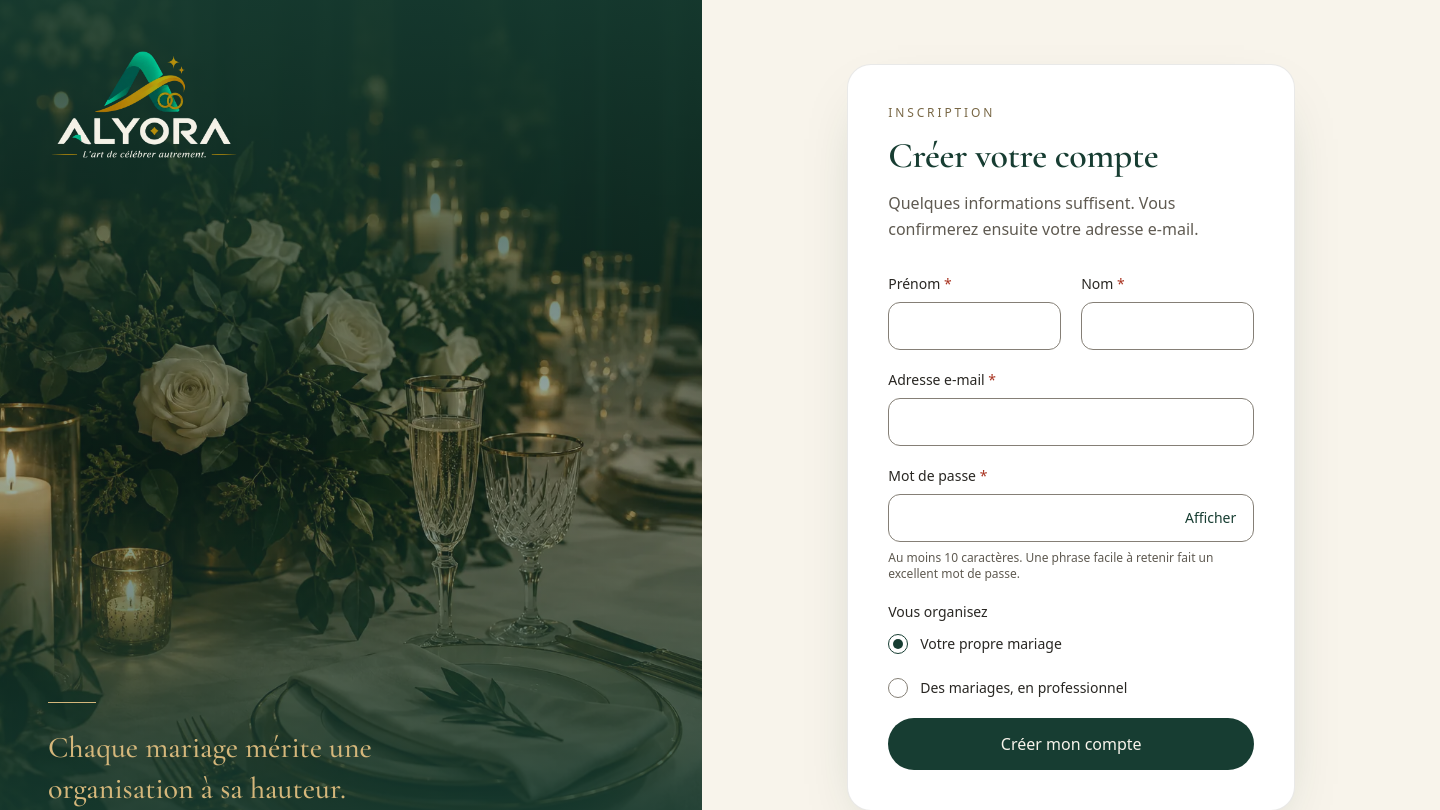
registration page › keeps the key for a retry after a network failure, and changes it after an answer
Later steps or results of the test are not shown.
Type "Awa" into the field labelled "Prénom *". click: x=975, y=326
box: [888,302,1061,350]
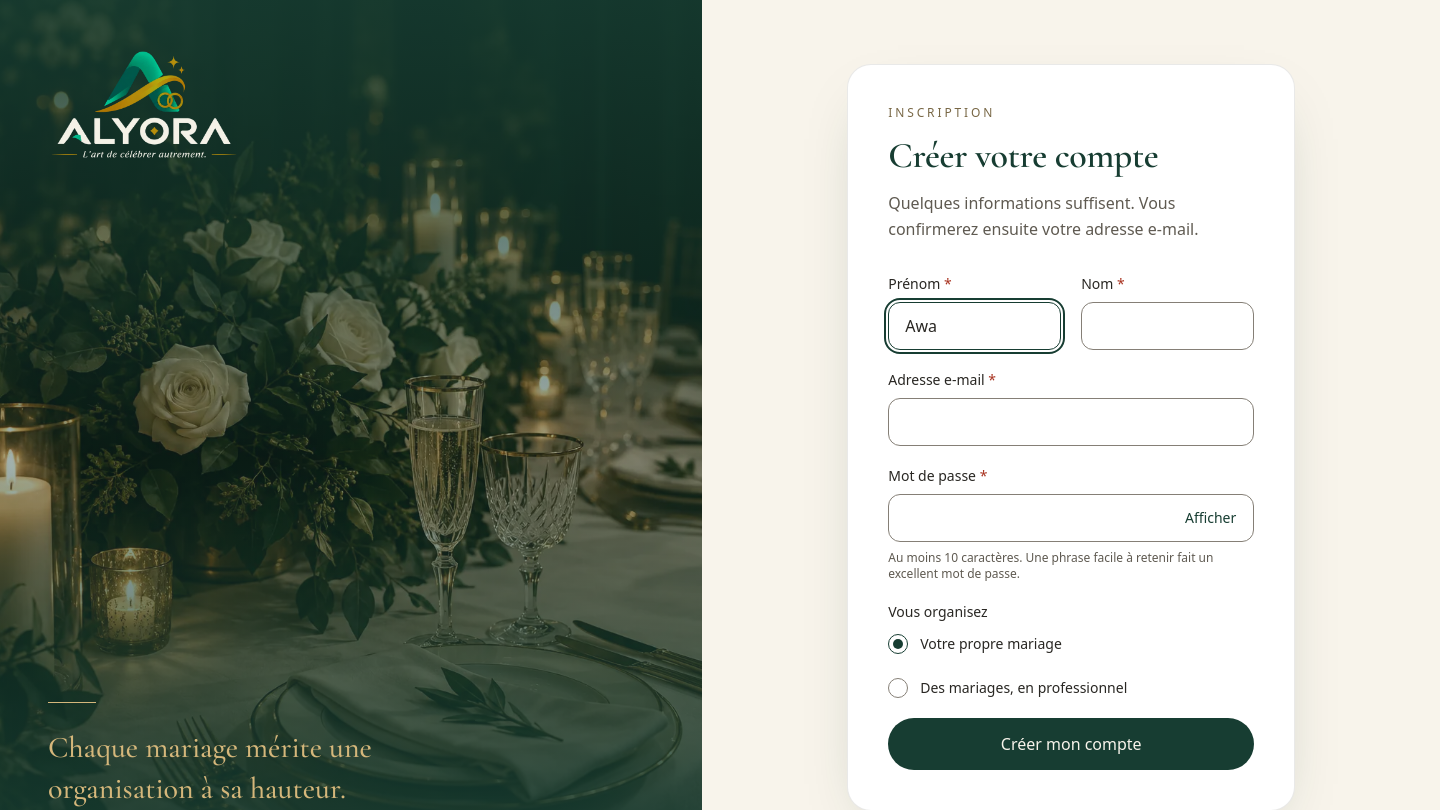
Type "Koné" into the field labelled "Nom *". click: x=1168, y=326
box: [1081,302,1254,350]
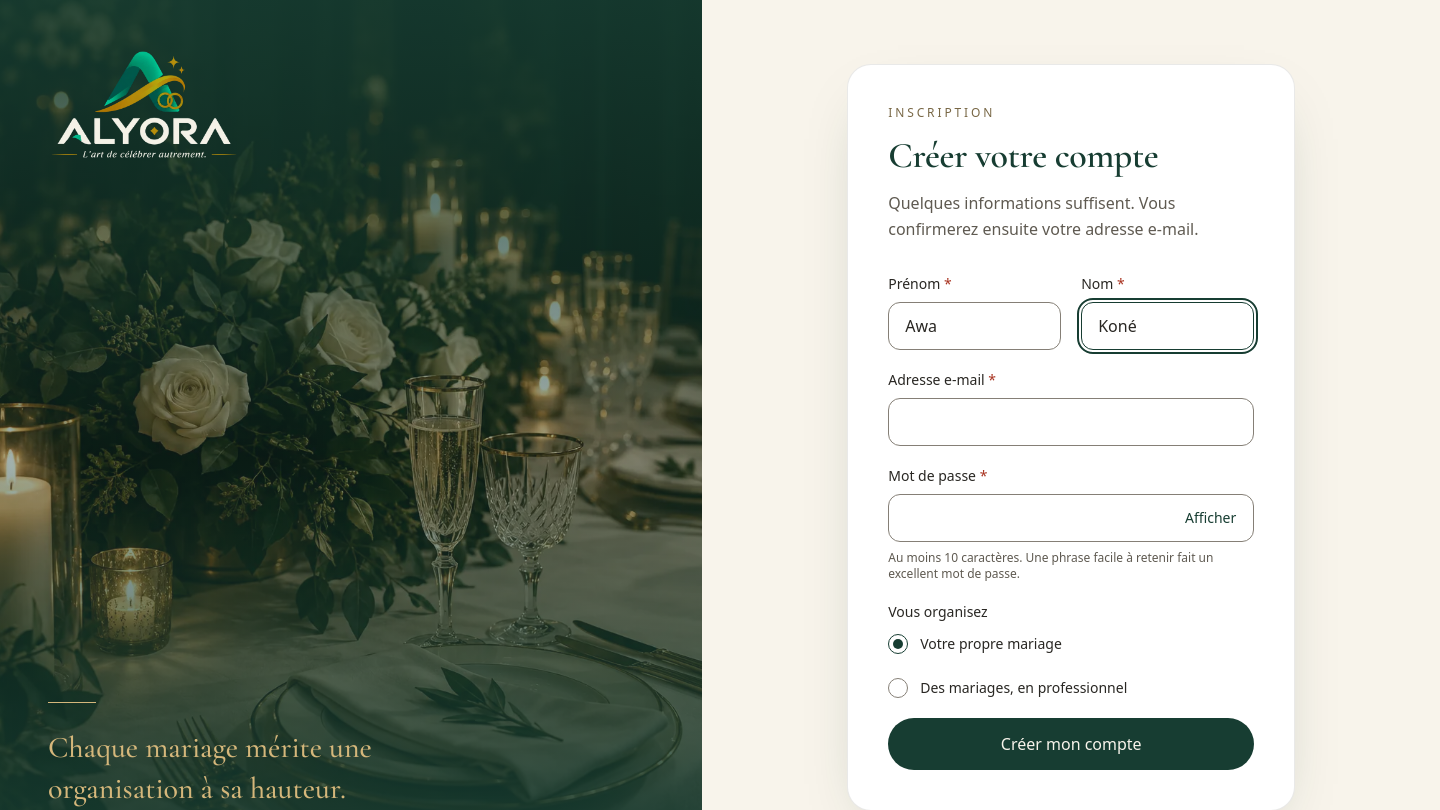
Type "awa@exemple.ci" into the field labelled "Adresse e-mail *". click: x=1071, y=422
box: [888,398,1254,446]
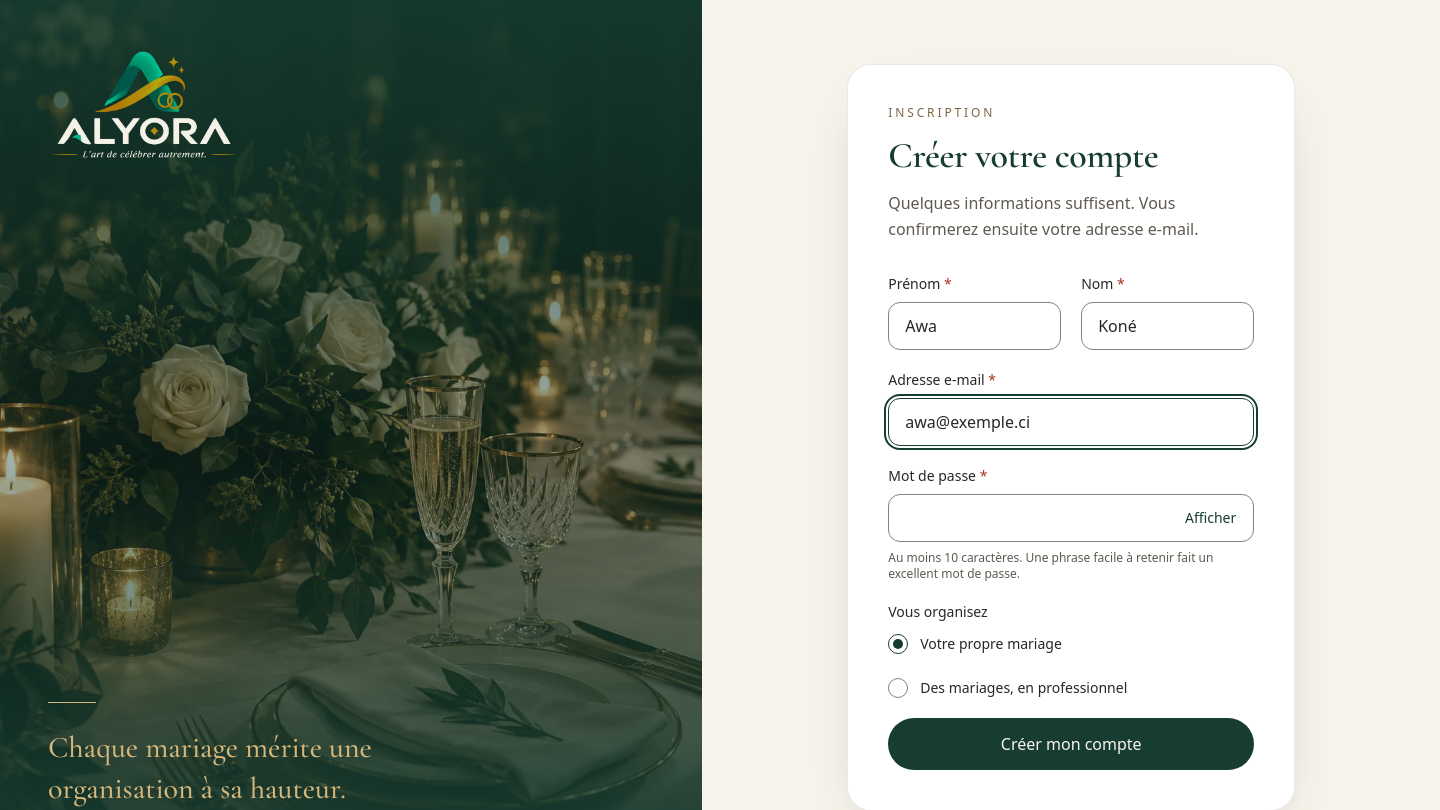
Type "Le soleil se lève sur la lagune" into the password field labelled "Mot de passe *". click: x=1071, y=518
box: [888,494,1254,542]
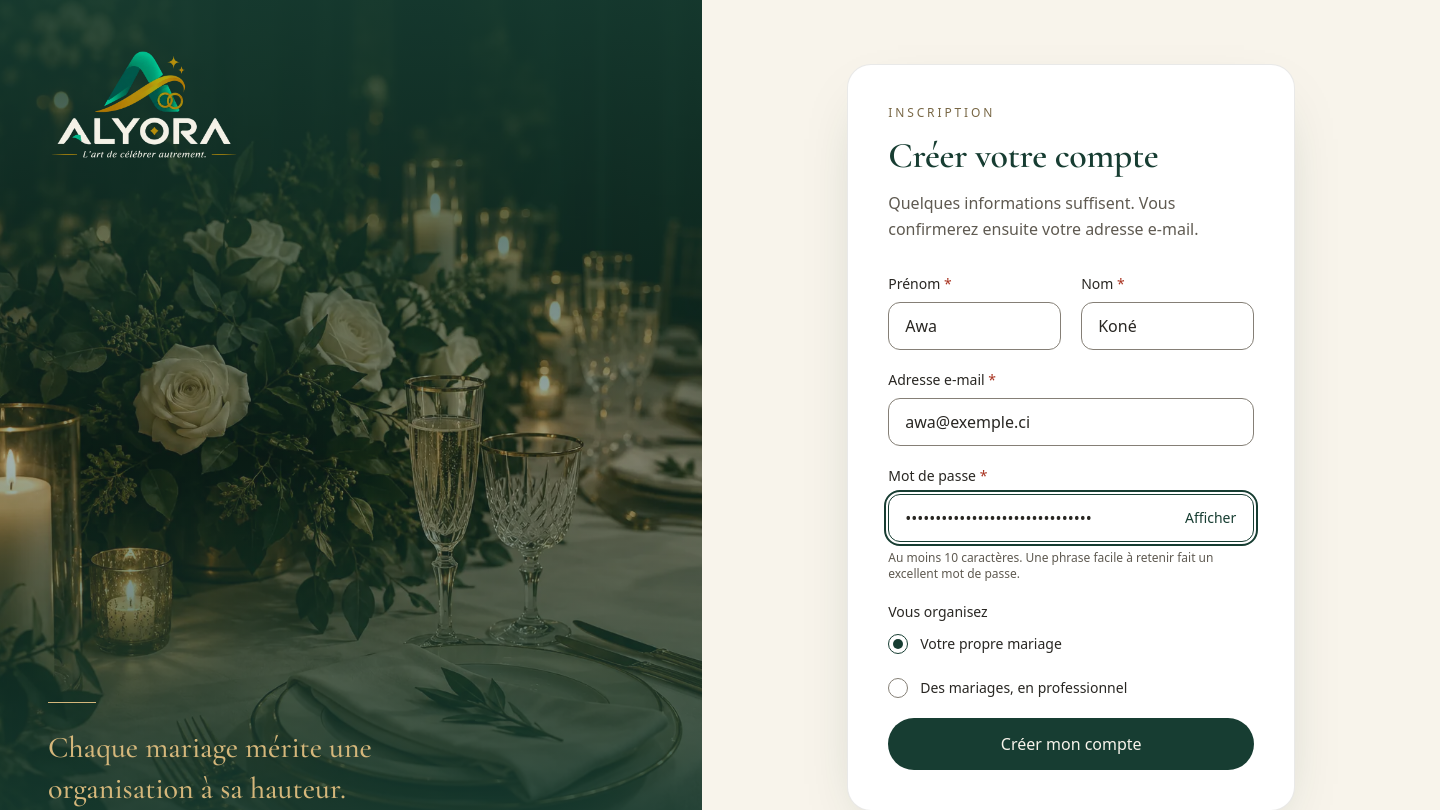
Click the button "Créer mon compte". click: x=1071, y=744
box: [888,718,1254,770]
(page scrolled)
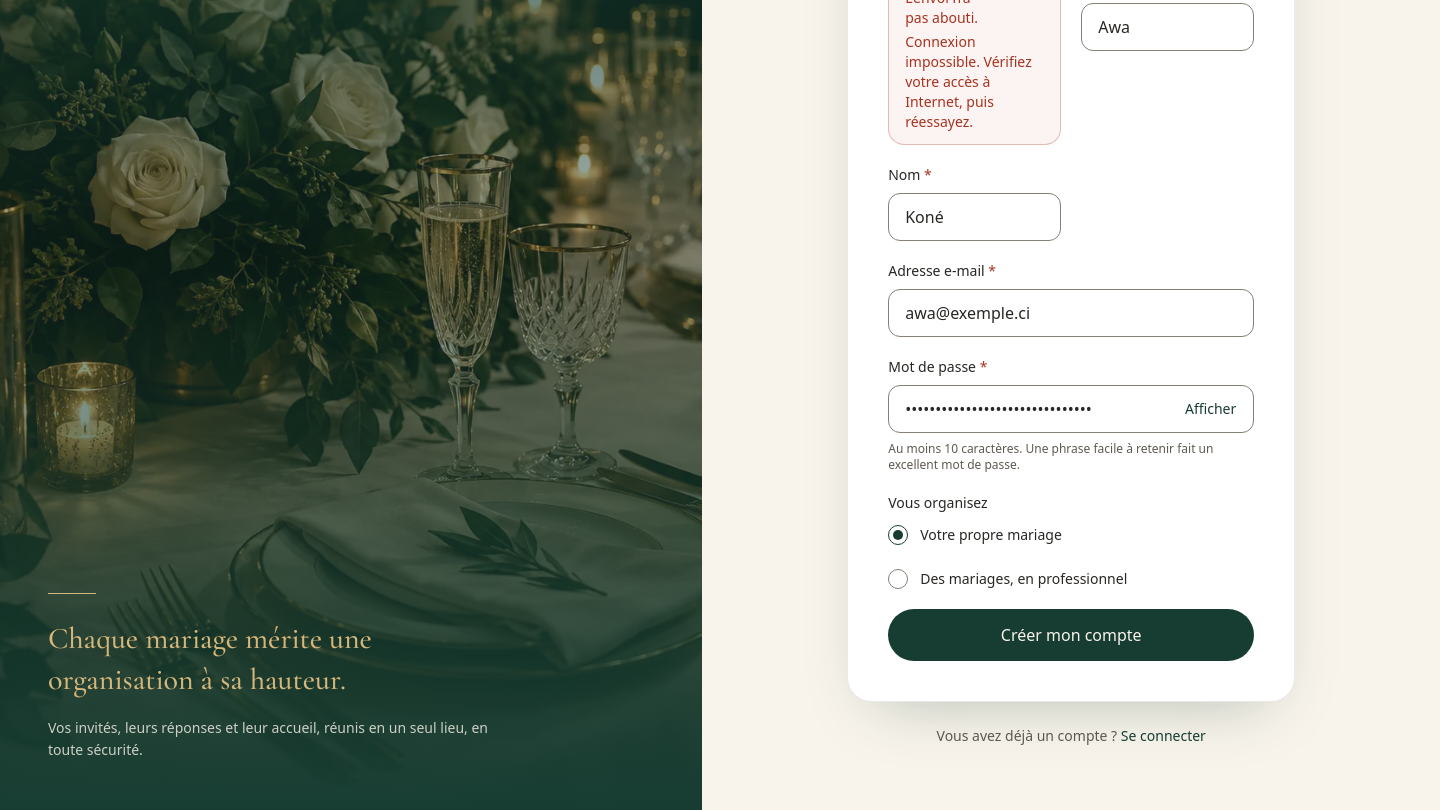
Click the button "Créer mon compte". click: x=1071, y=635
box: [888,609,1254,661]
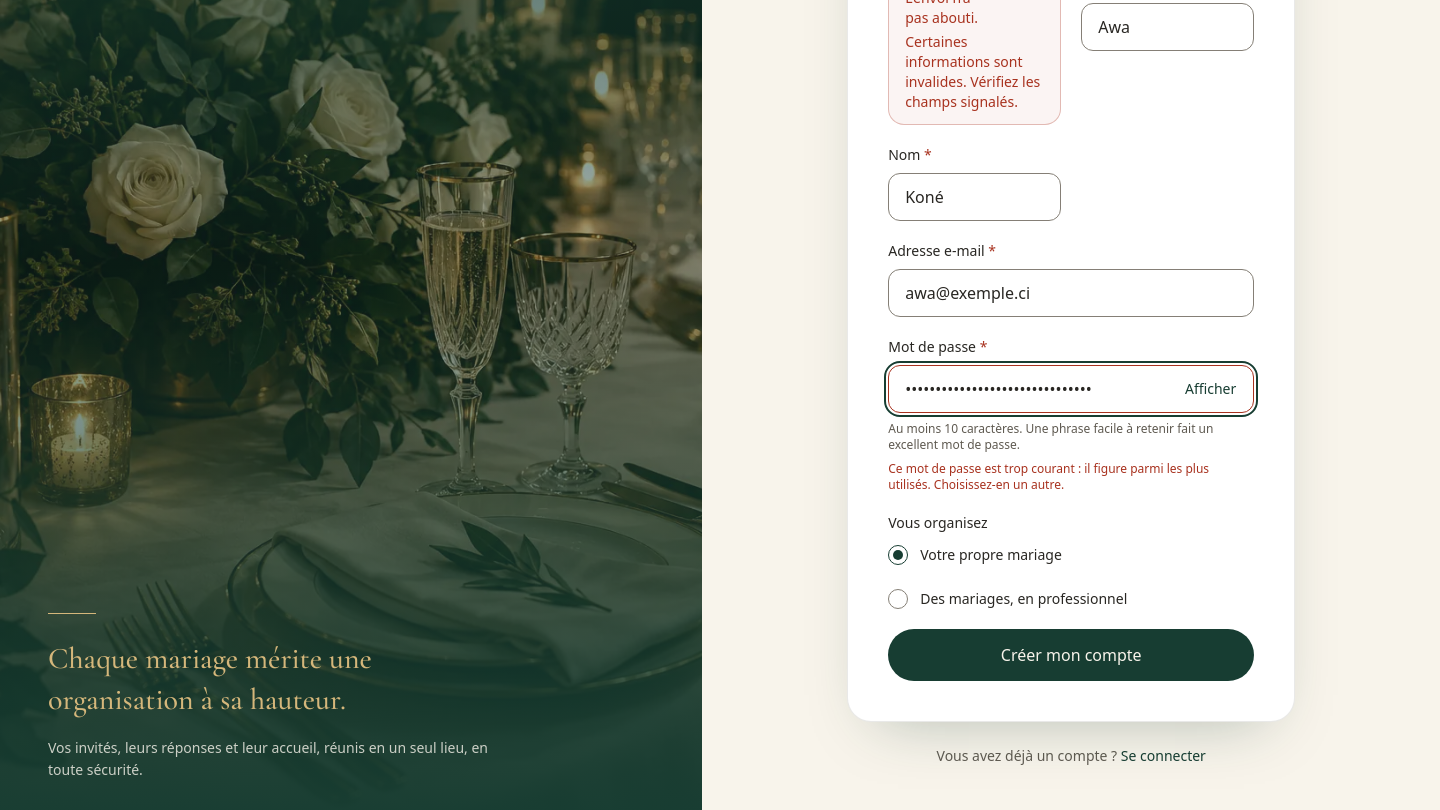
Expected: the text "Ce mot de passe est trop courant : il figure parmi les plus utilisés. Choisissez-en un autre." is shown, [888,460,1209,493]
